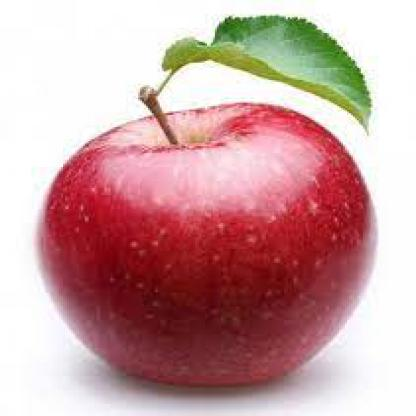Fresh: (18, 7, 388, 402)
